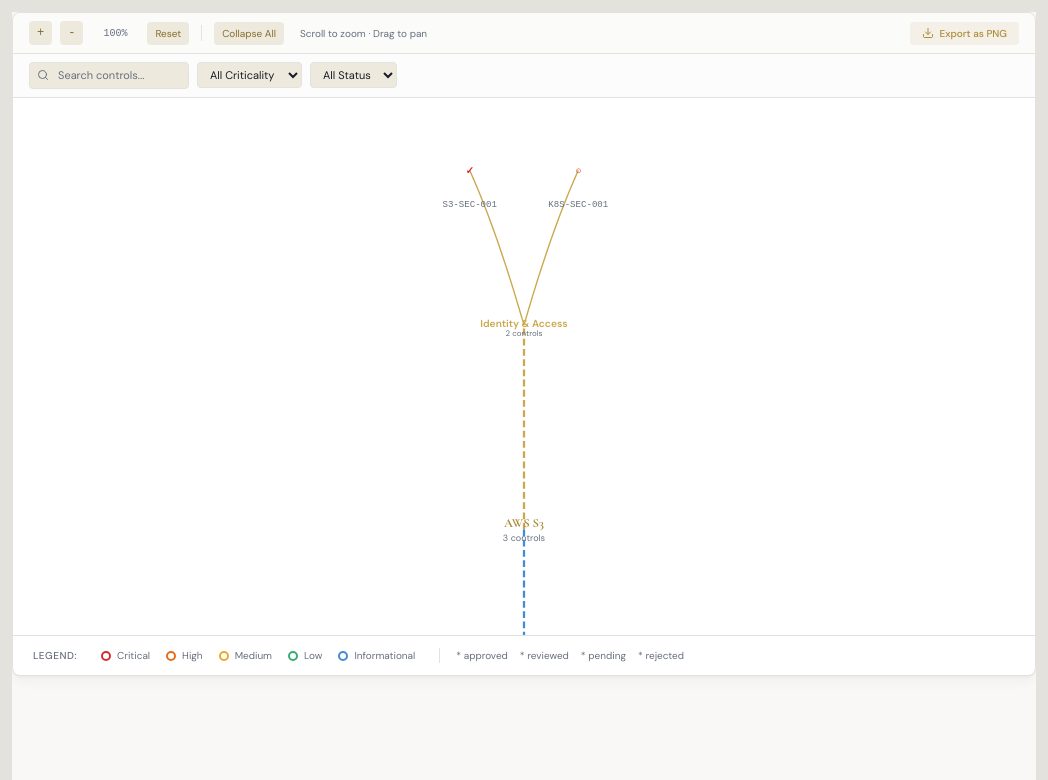
it: BaselineMindMap integration › zoom in button updates the zoom percentage
Click the button named "Zoom in" at (41, 33), box top-left (29, 21), bottom-right (52, 45)
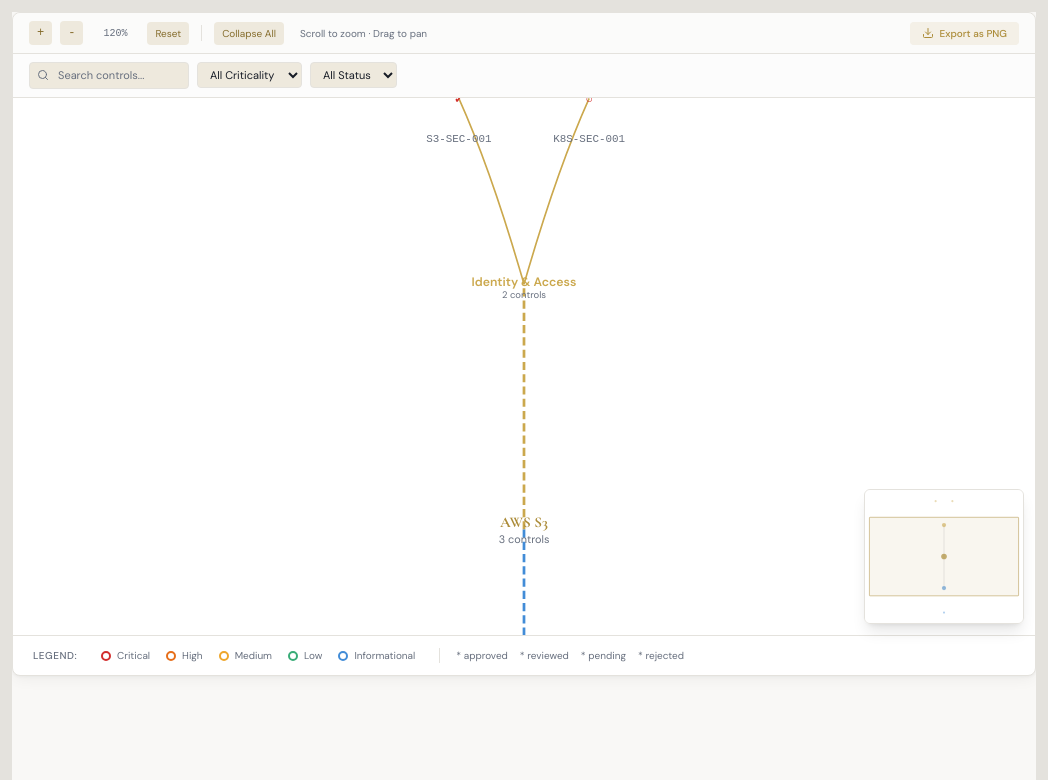
Expected: the text "120%" is shown, top-left (103, 28), bottom-right (127, 38)
